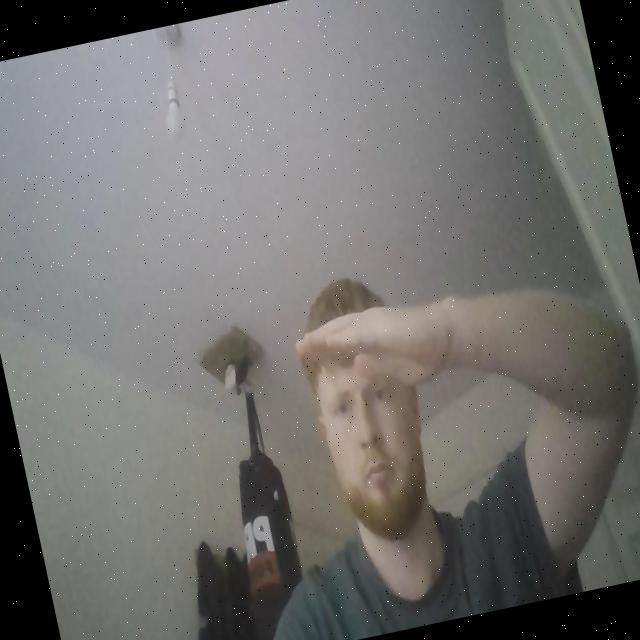papper: (289, 288, 474, 411)
